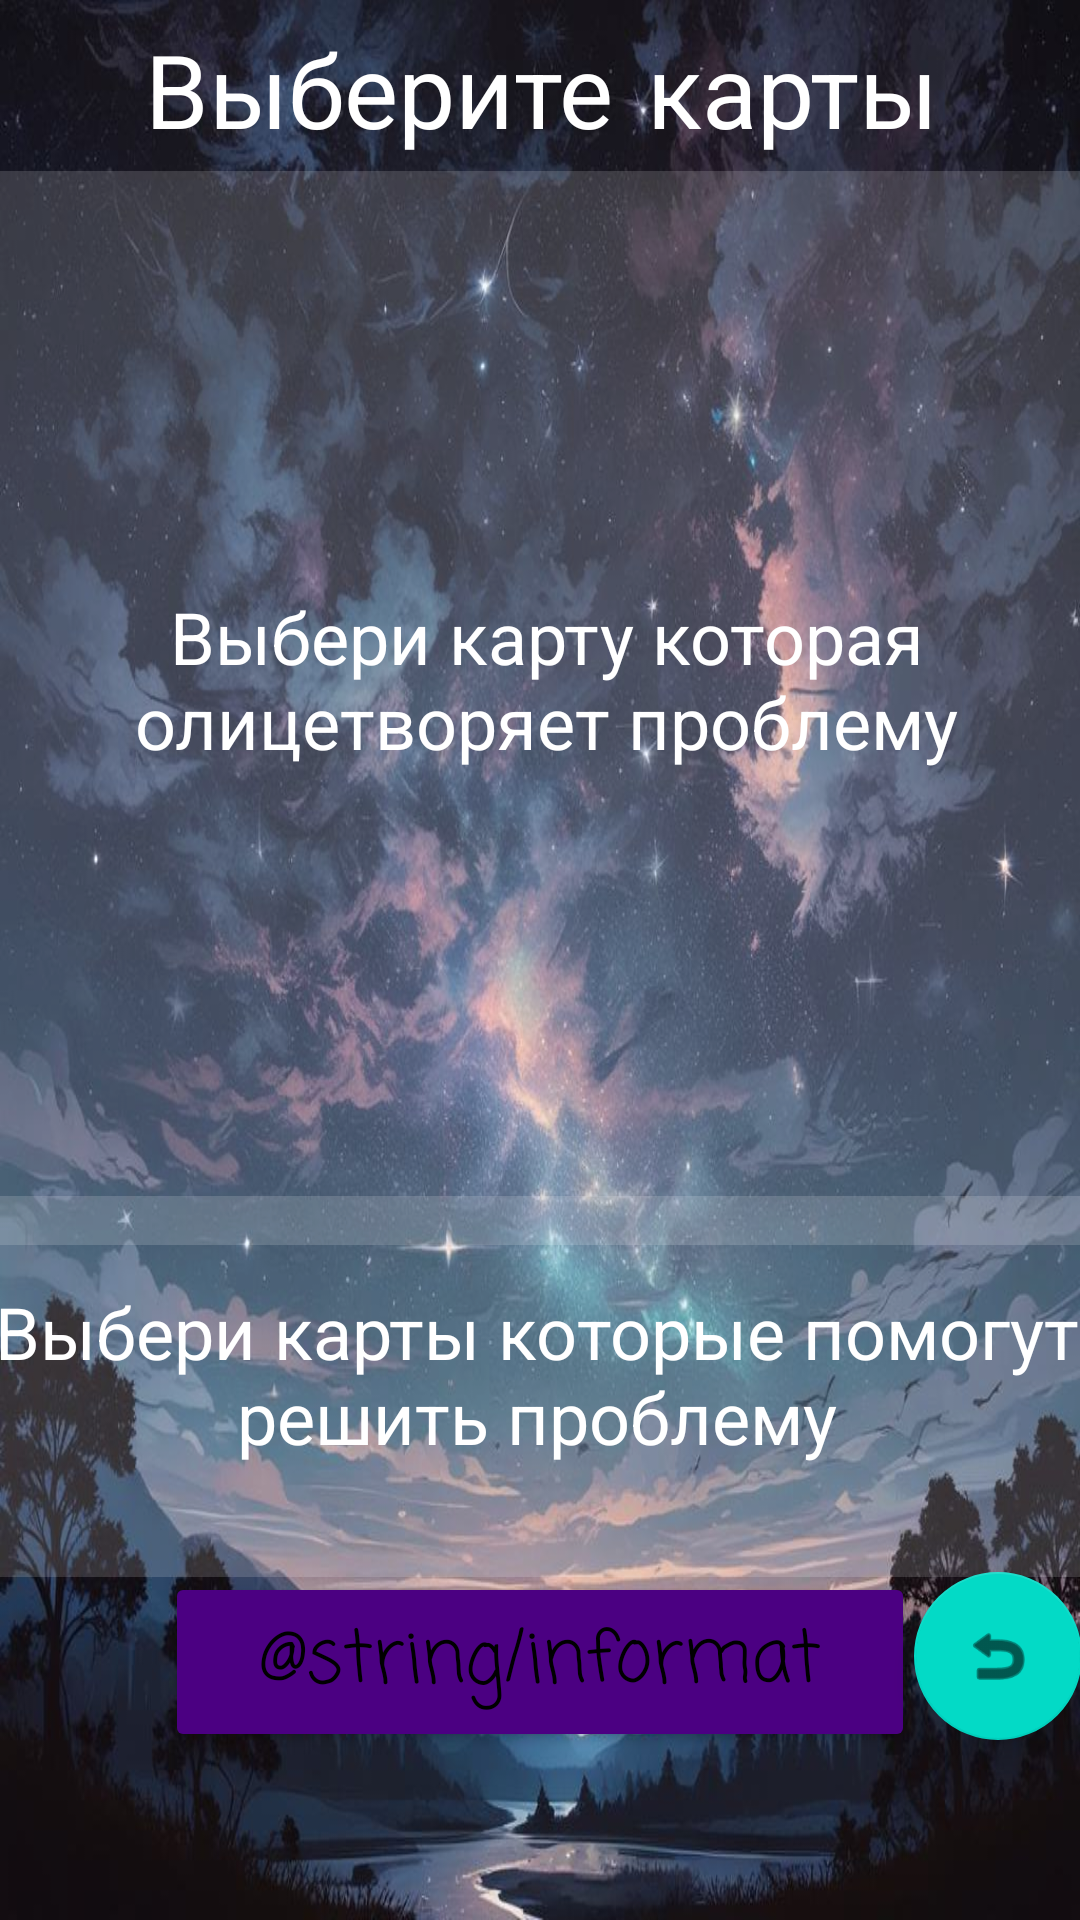

Screen size 1080w x 1920h. Icon name, then its center in pixels as point (x, y):
exit: point (997, 1656)
